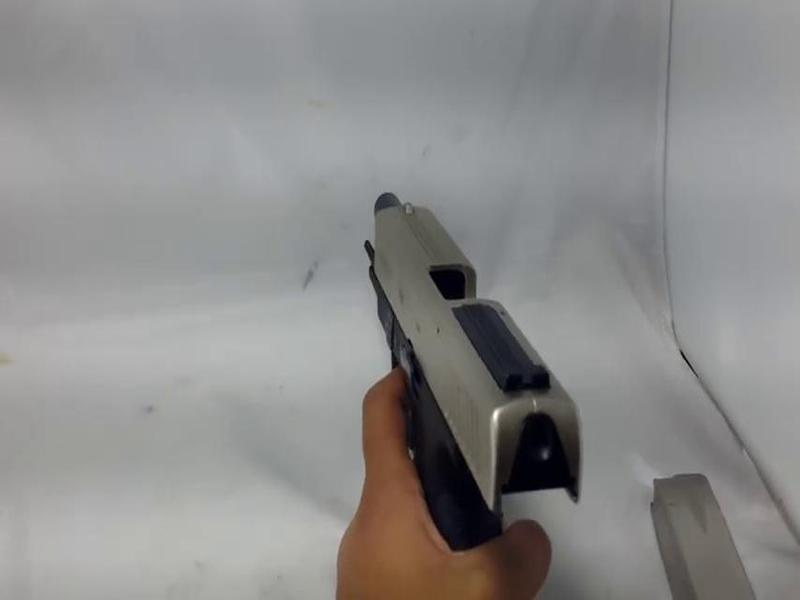Pistola: (312, 172, 592, 600)
